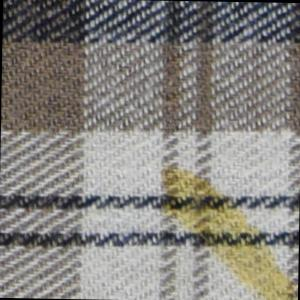Stain: (153, 160, 300, 300)
